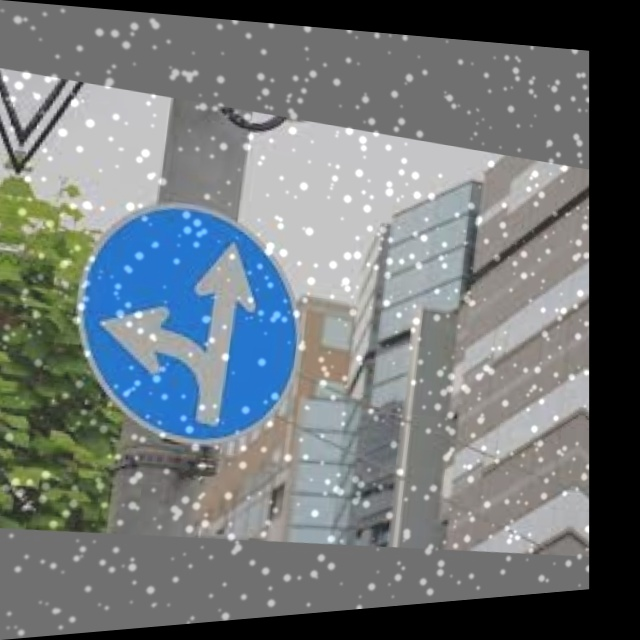Compulsory_Ahead_or_Turn_Left: (64, 192, 311, 457)
